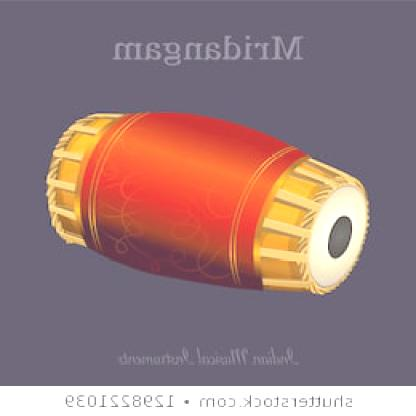Mridangam: (36, 99, 380, 304)
